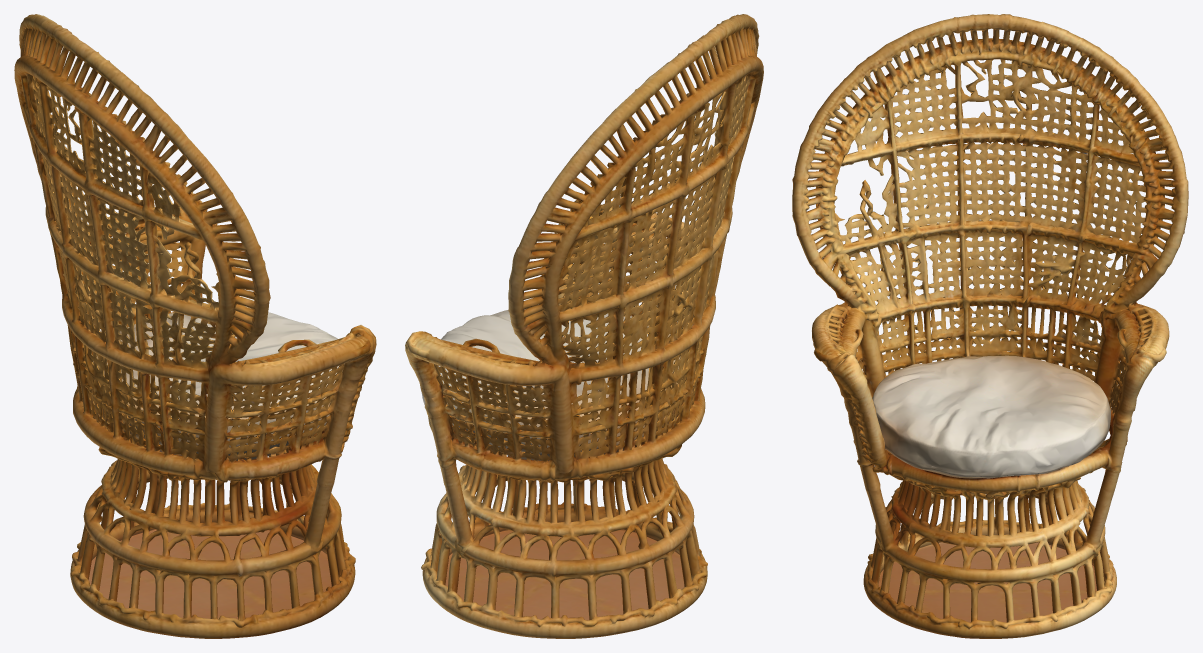
The model's file is tripo.glb.
The picture shows the model from 3 angles, left to right: view 1: azimuth 30°, elevation 25°; view 2: azimuth 150°, elevation 25°; view 3: azimuth 270°, elevation 25°; orthographic projection. The views are drawn at different scales.
Parts seen in each view (by area): view 1: tripo_node_c4889587-43fd-444d-911d-a71f2444dcaa; view 2: tripo_node_c4889587-43fd-444d-911d-a71f2444dcaa; view 3: tripo_node_c4889587-43fd-444d-911d-a71f2444dcaa.
Part boxes in pixels (x1,y1,x2,y2): tripo_node_c4889587-43fd-444d-911d-a71f2444dcaa: (14,14,376,638); tripo_node_c4889587-43fd-444d-911d-a71f2444dcaa: (405,14,763,638); tripo_node_c4889587-43fd-444d-911d-a71f2444dcaa: (792,14,1188,638).
Size of the model in its own units: 0.5237 by 1 by 0.7007.
1 material, 1 textured.
